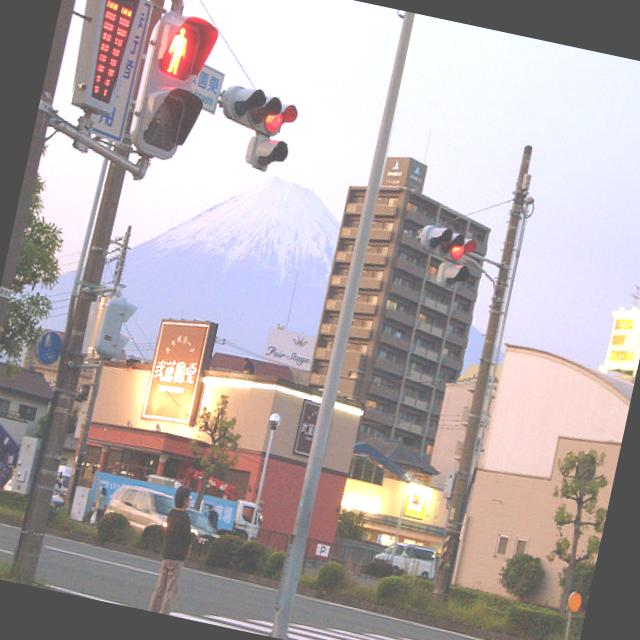Vehicle: (86, 467, 267, 545), (101, 480, 206, 542), (368, 536, 439, 582), (180, 506, 224, 550), (50, 463, 74, 508)
